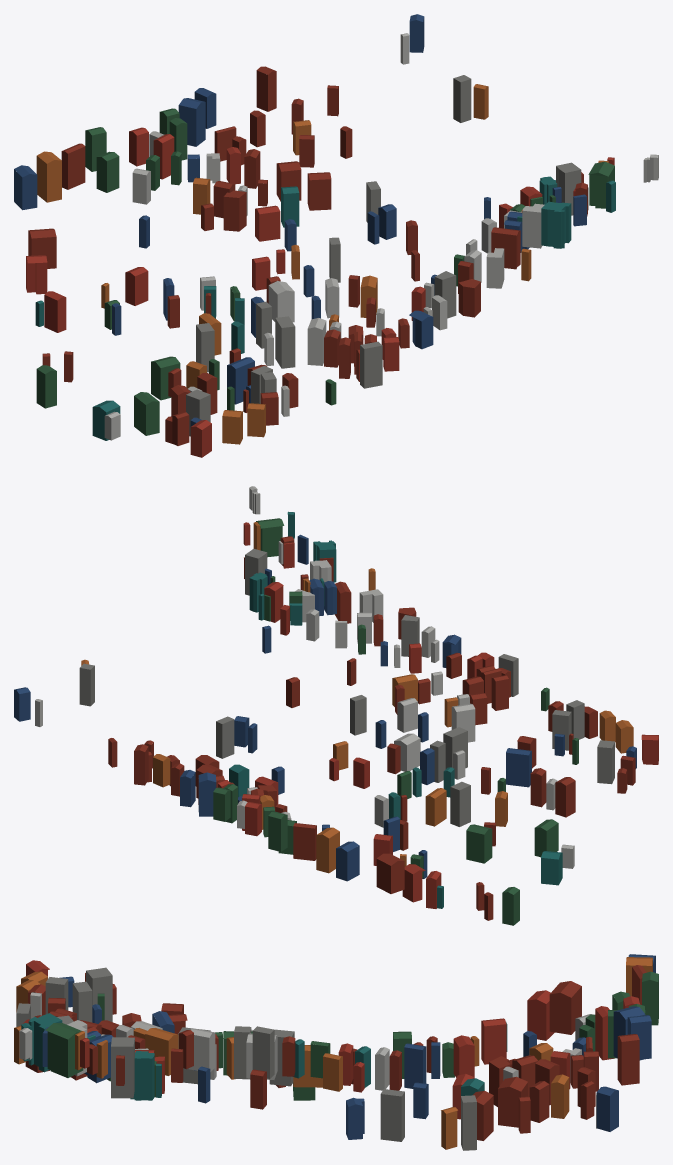
Rendered from near-17-109428-59474.27862439.glb.
The picture shows the model from 3 angles, top to bottom: view 1: azimuth 30°, elevation 25°; view 2: azimuth 150°, elevation 25°; view 3: azimuth 270°, elevation 25°; orthographic projection. The views are drawn at different scales.
Bounding box in the file's own units: 297 × 153 × 296.
